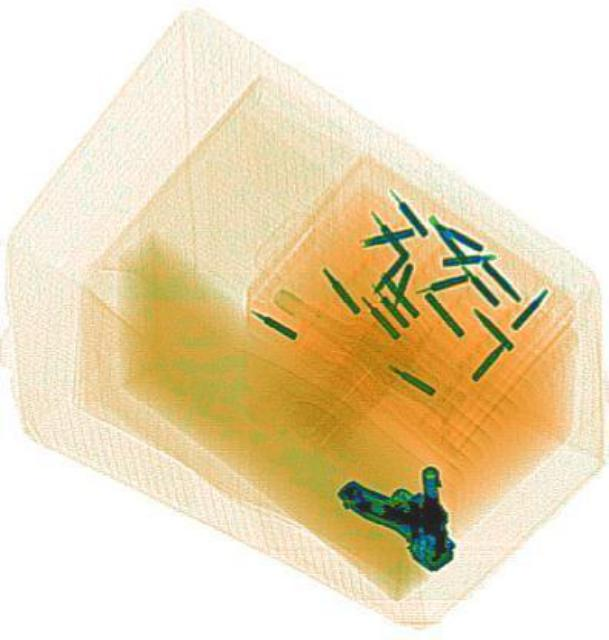Gun: (333, 464, 451, 566)
